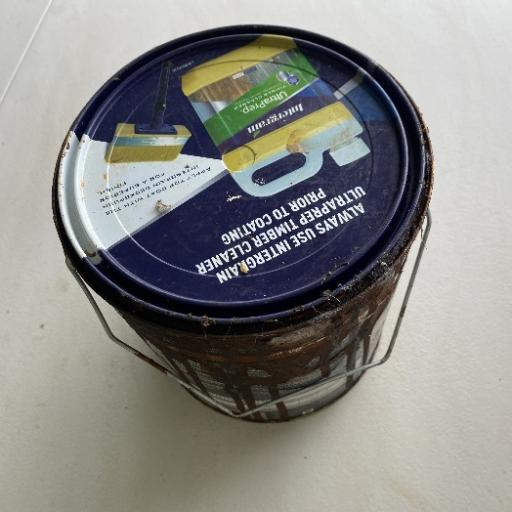Metal: (51, 25, 436, 424)
